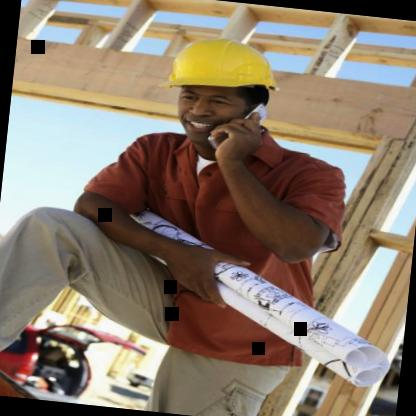helmet: (157, 31, 288, 156)
